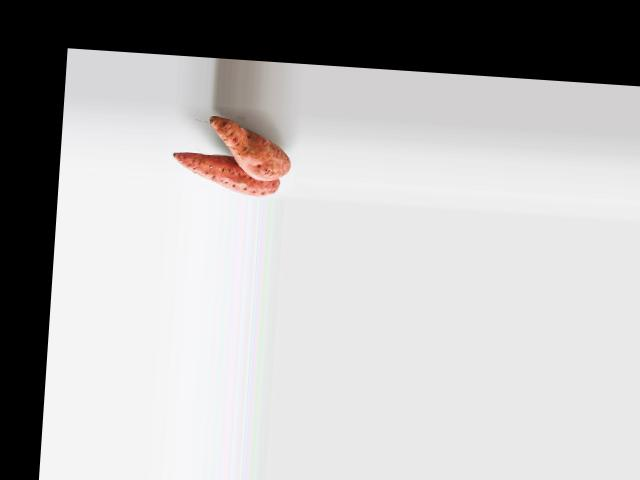sweet_potato: (177, 151, 281, 196)
